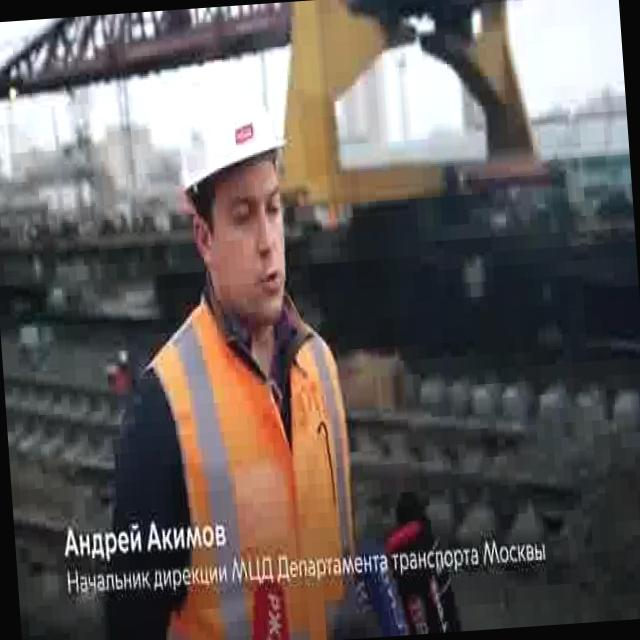vest: (140, 274, 365, 640)
